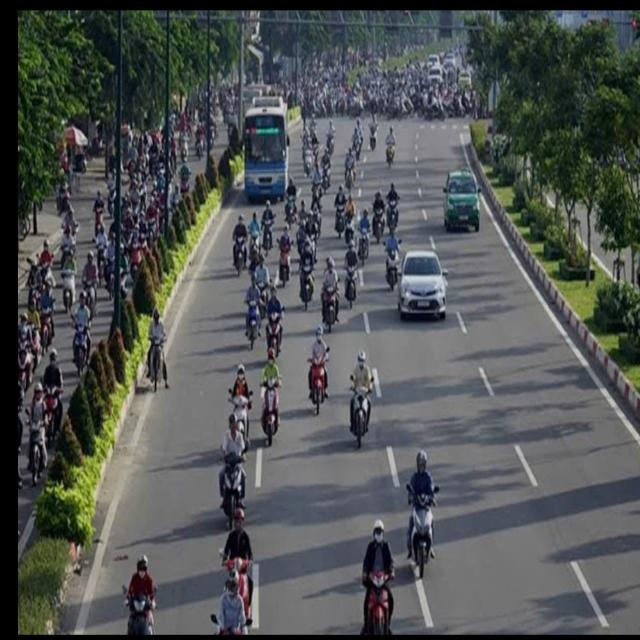Xe Buyt: (241, 94, 293, 203)
car: (400, 238, 450, 328), (444, 163, 483, 242)
motobyte: (405, 442, 438, 583), (362, 517, 398, 639), (223, 506, 258, 629), (217, 411, 247, 534), (346, 344, 376, 452), (258, 348, 286, 448), (144, 303, 172, 403), (306, 321, 331, 418), (227, 359, 251, 454), (322, 252, 341, 330), (242, 268, 260, 350), (267, 281, 285, 363), (299, 233, 316, 310), (229, 205, 246, 278), (344, 237, 360, 313), (383, 223, 400, 292), (309, 158, 326, 217), (260, 196, 276, 258), (278, 218, 292, 288), (358, 204, 372, 273), (370, 184, 385, 248), (248, 210, 262, 272), (342, 142, 360, 190), (387, 179, 401, 238), (284, 171, 296, 232), (385, 121, 398, 170), (334, 181, 344, 239), (345, 190, 355, 244)
